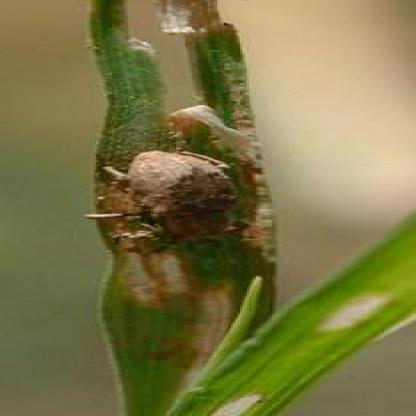rice-bug: (84, 148, 266, 245)
